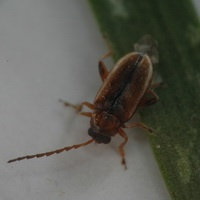insect: (8, 36, 158, 168)
